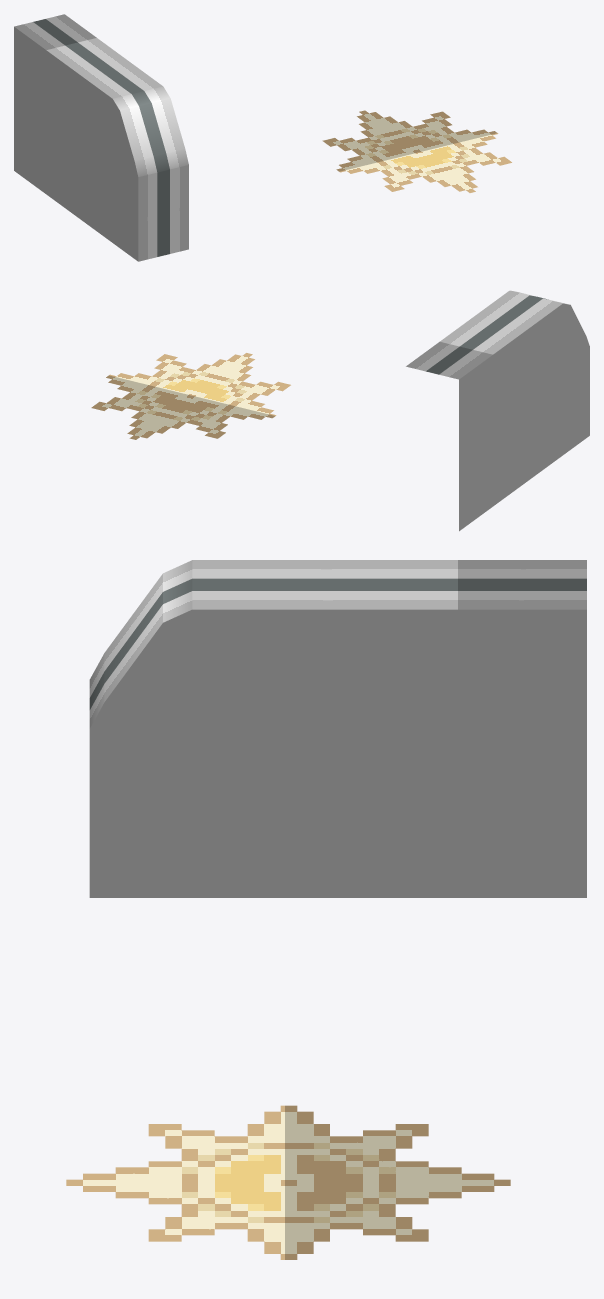
File: hgss-piece-221-portique-droit.glb
3 views of the same model, one above another, from view 1: azimuth 30°, elevation 25°; view 2: azimuth 150°, elevation 25°; view 3: azimuth 270°, elevation 25° (orthographic). The views are drawn at different scales.
Size of the model in its own units: 4.28 by 1.42 by 2.44.
Materials: 2 (2 with a texture image).
